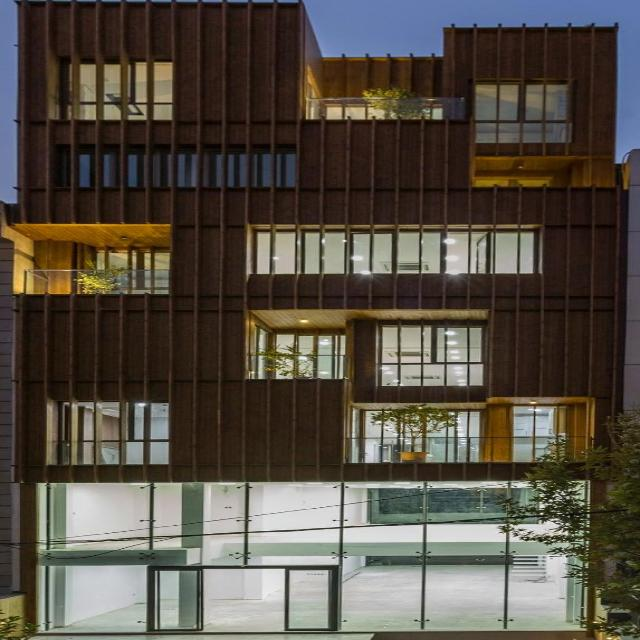Railing: (346, 436, 593, 462), (24, 270, 171, 294), (309, 96, 465, 118), (249, 354, 347, 380)
door: (142, 564, 343, 633)
plant: (490, 411, 639, 636)
wall: (0, 0, 639, 639)
windows: (36, 482, 588, 630), (258, 230, 538, 274), (61, 150, 292, 188), (62, 401, 171, 465), (383, 322, 488, 387), (66, 62, 173, 120), (477, 83, 570, 142), (365, 412, 485, 438), (268, 330, 342, 354), (516, 404, 570, 436), (91, 251, 172, 269)
